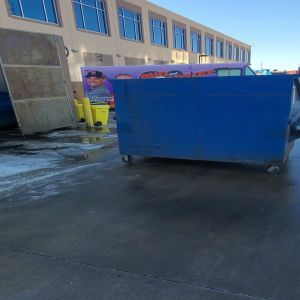Dumpster: (108, 77, 300, 178)
